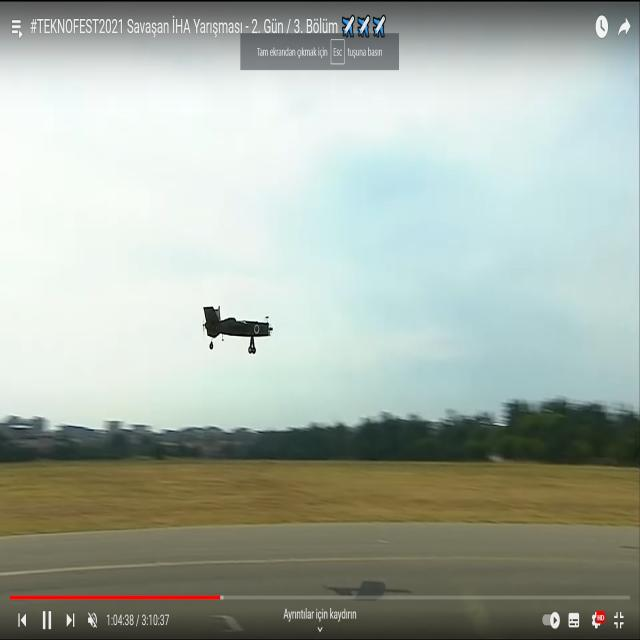iha: (235, 296, 239, 348)
